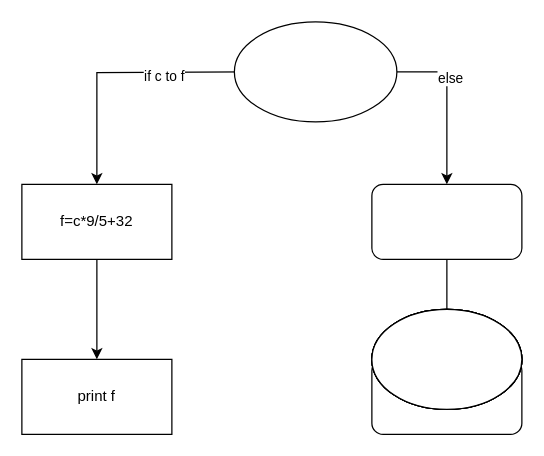
Some shapes in this 544 by 456 pixel diagram are drawn without their labels. The shapes that lost their labels are listed below. From the top down, each one's box as (x1, y1, x2, y2) in pixels, then its label:
(233, 21, 397, 122): start
(371, 183, 522, 259): c=(f-32)*5/9
